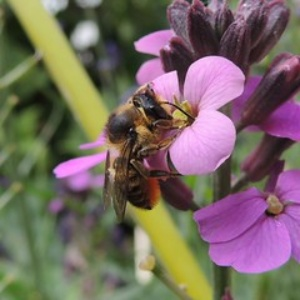bee: (104, 80, 194, 238)
